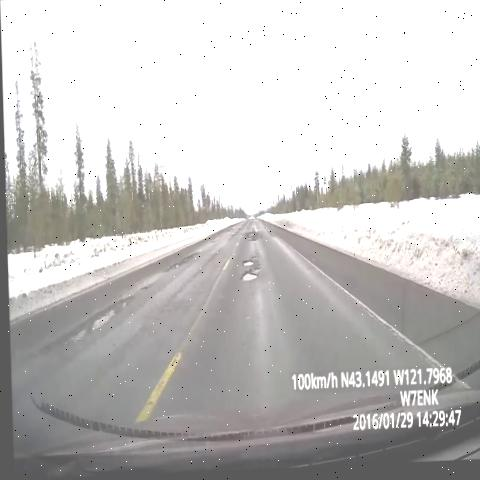pothole: (233, 251, 264, 276), (234, 270, 264, 294)
